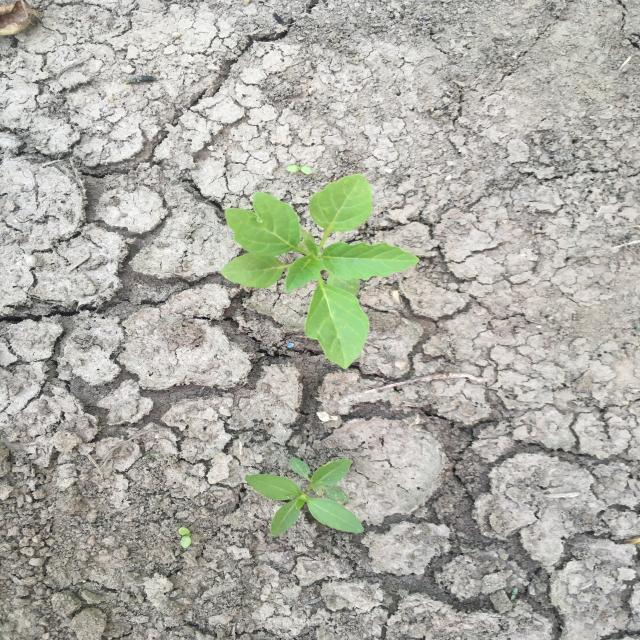CutleafGroundcherry: (217, 172, 423, 372)
Eclipta: (244, 455, 366, 538)
